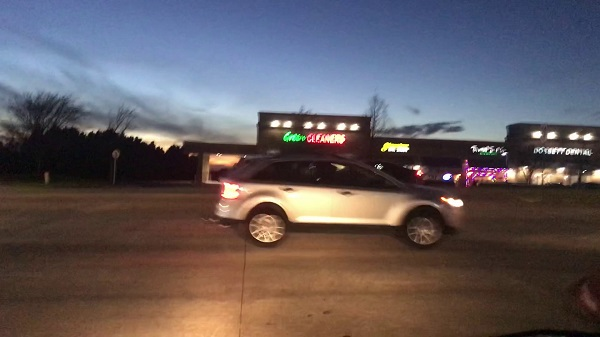car: (217, 151, 469, 249)
